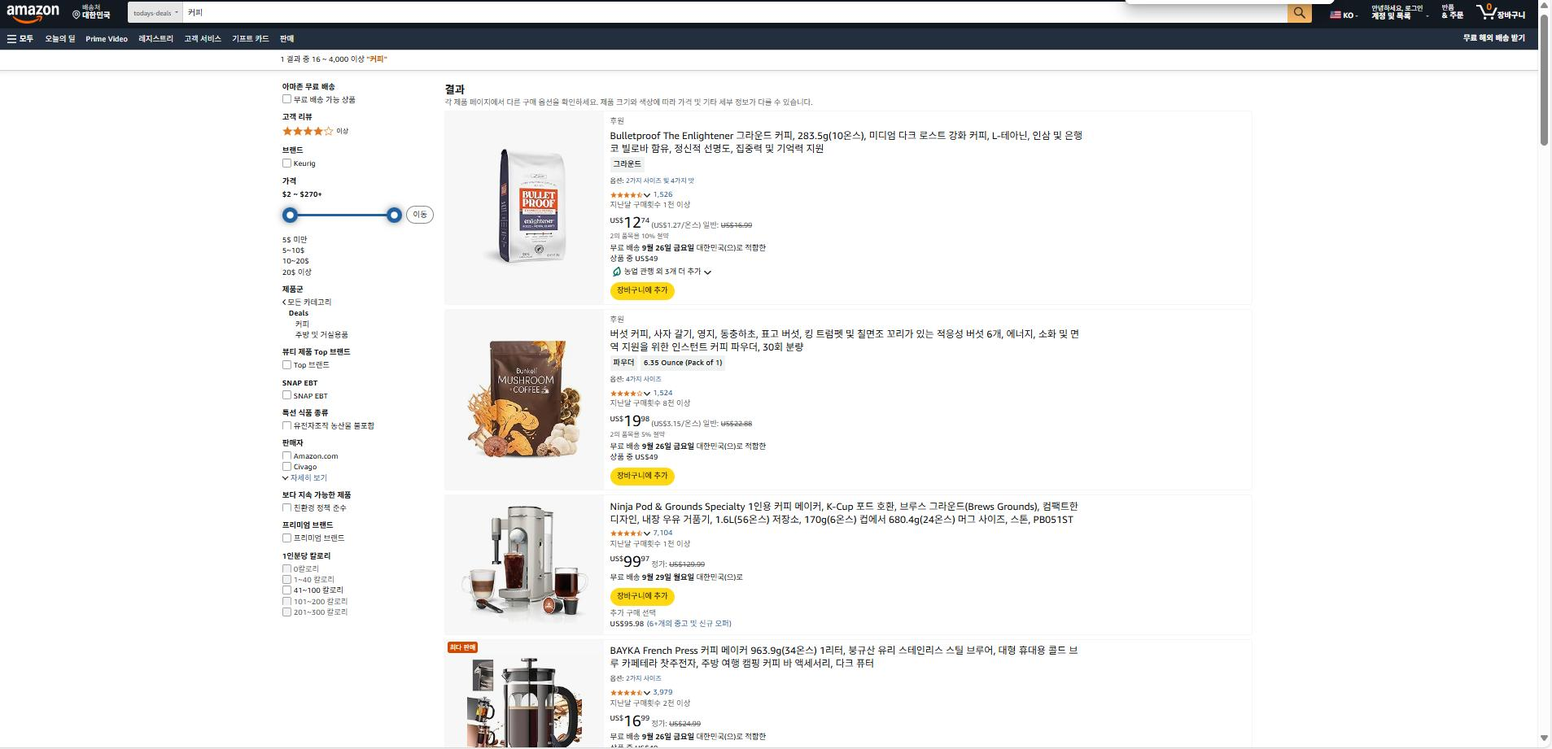button: (1473, 0, 1535, 27), (610, 281, 677, 302), (611, 586, 676, 607), (609, 468, 676, 486), (80, 29, 128, 48), (138, 32, 175, 47), (1329, 7, 1362, 23), (41, 32, 76, 47), (232, 33, 273, 45), (186, 33, 222, 45), (279, 33, 296, 43)
checkbox: (281, 389, 357, 404), (281, 450, 357, 465), (281, 93, 357, 107), (277, 156, 353, 170), (281, 357, 357, 371), (276, 418, 352, 432), (278, 463, 354, 477), (278, 501, 354, 515), (281, 530, 357, 544), (282, 596, 349, 607), (282, 606, 346, 617), (282, 584, 343, 595), (279, 574, 337, 585), (5, 33, 37, 47), (282, 564, 321, 573)
input_field: (129, 3, 1312, 25)
